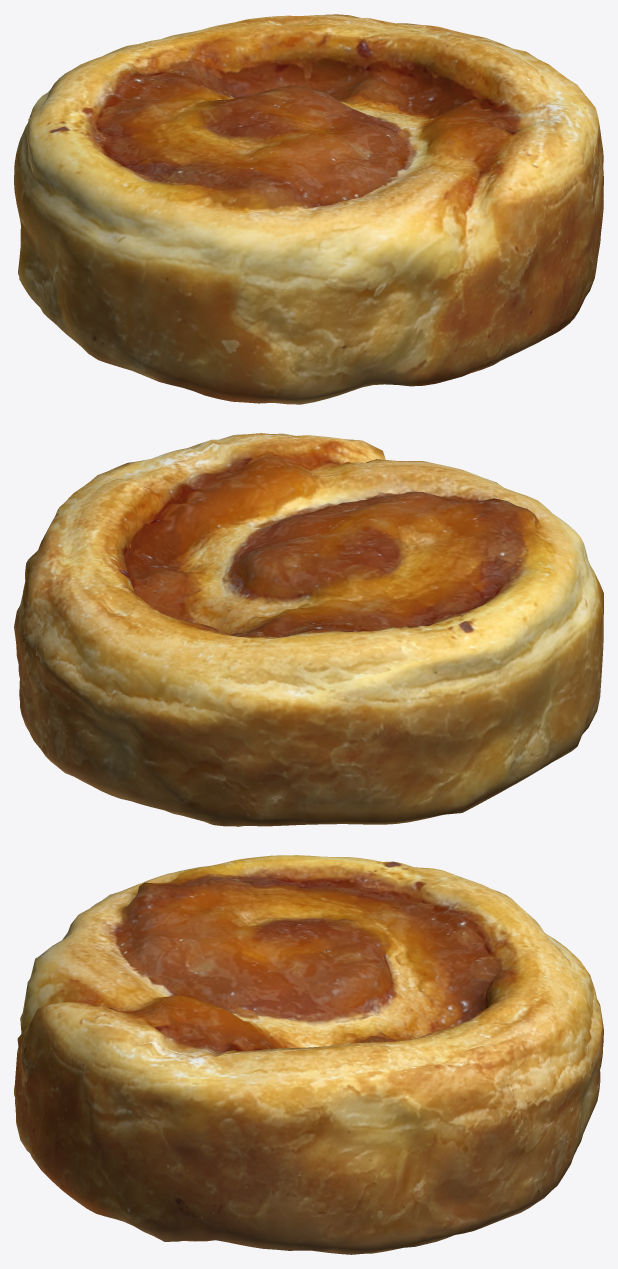
Rendered from pastry(2).glb.
3 views of the same model, one above another, from view 1: azimuth 30°, elevation 25°; view 2: azimuth 150°, elevation 25°; view 3: azimuth 270°, elevation 25° (orthographic).
Visible parts, largest first — view 1: Object_2; view 2: Object_2; view 3: Object_2.
Boxes of the visible parts, box(x1,y1,x2,y2) form: Object_2: box(14, 14, 603, 404); Object_2: box(14, 433, 603, 826); Object_2: box(14, 855, 603, 1254).
Bounding box in the file's own units: 0.6548 × 0.2372 × 0.6548.
1 material, 1 textured.
